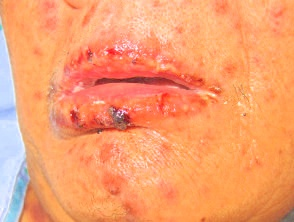SJS-TEN: (31, 25, 227, 143)
